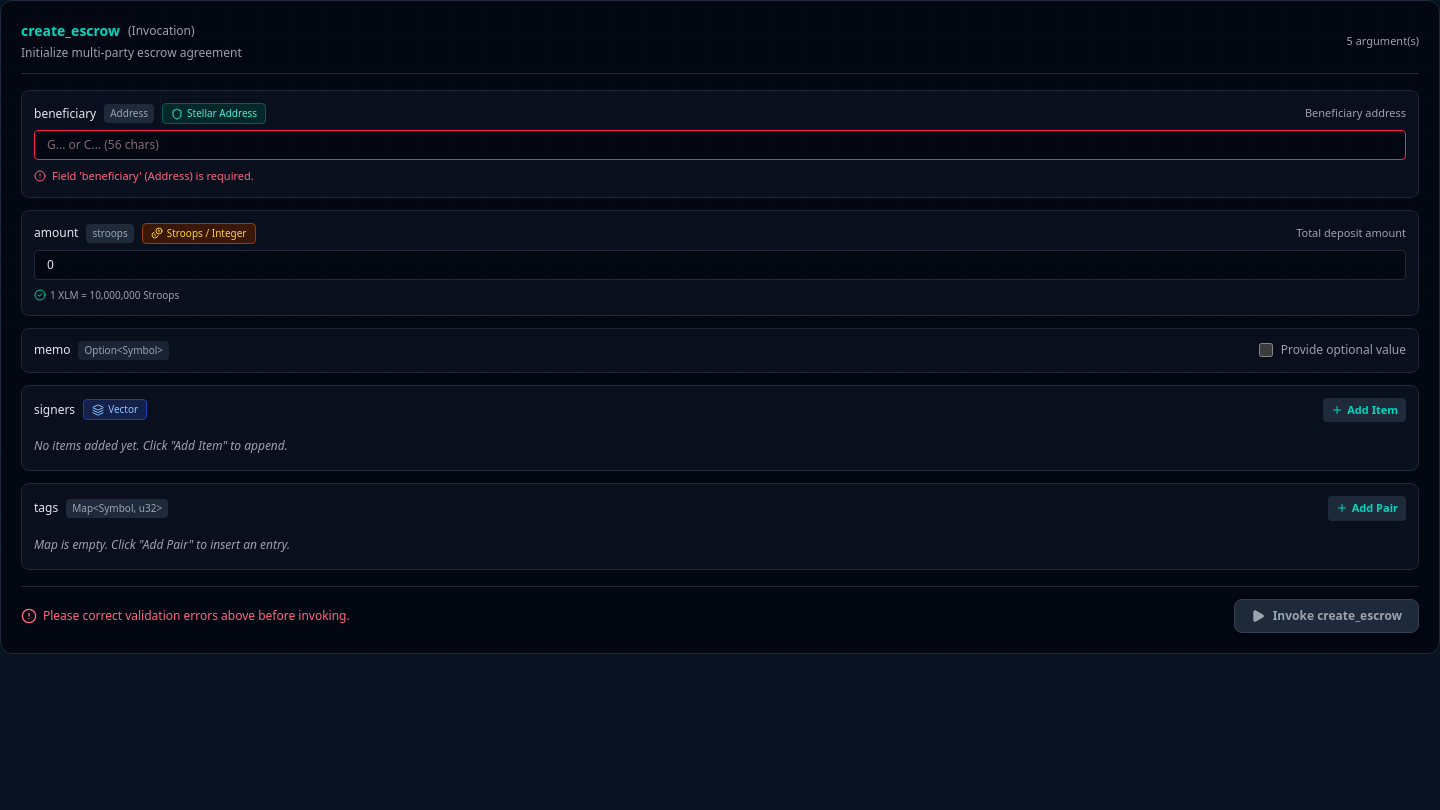
Test case: ContractInvocationForm Component › handles optional toggle correctly
Note: Toggle on
Click the checkbox with test id "toggle-optional-memo": (1266, 350) top-left (1259, 343), bottom-right (1273, 357)
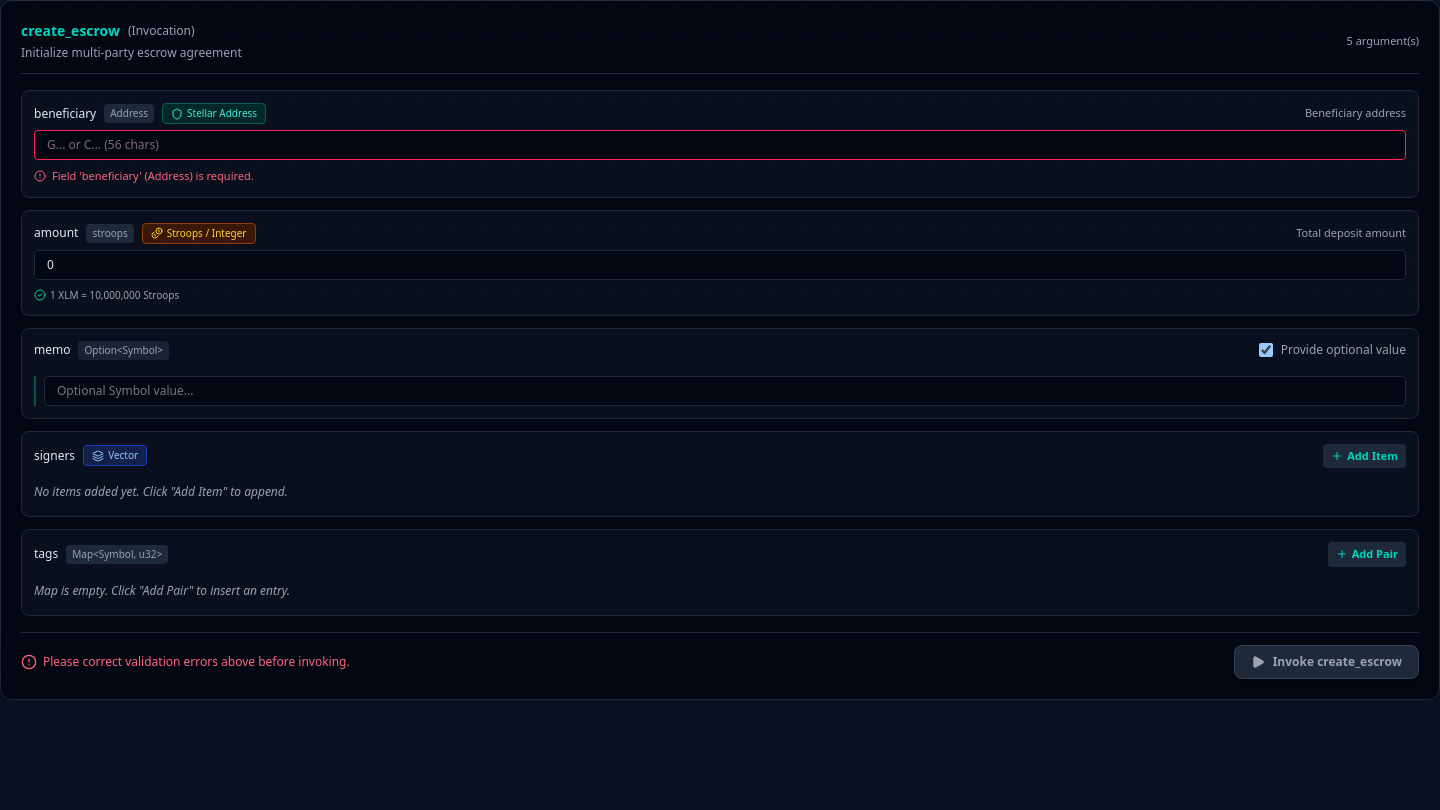
expect the checkbox with test id "toggle-optional-memo" is checked: met, box top-left (1259, 343), bottom-right (1273, 357)
expect the field with test id "input-memo" is shown: met, box top-left (44, 376), bottom-right (1406, 406)
